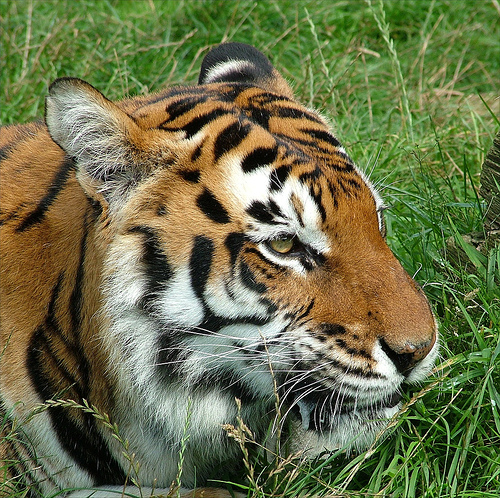Tigre: (47, 37, 457, 460)
